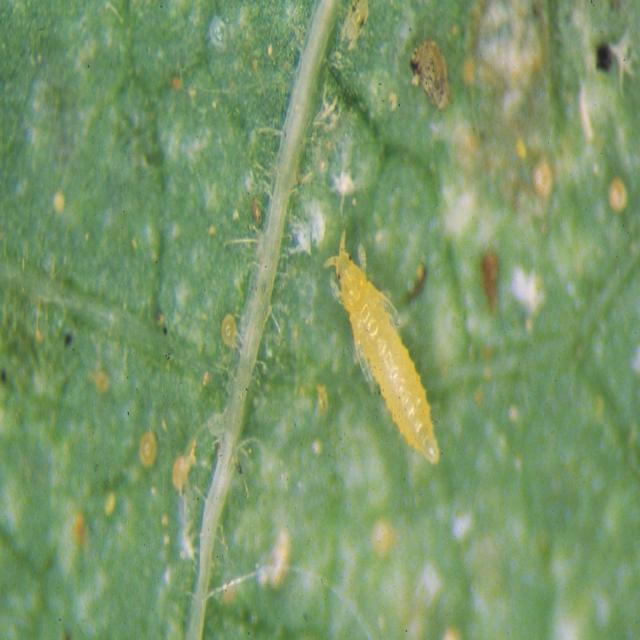Thrip-Larva-: (320, 228, 448, 481)
